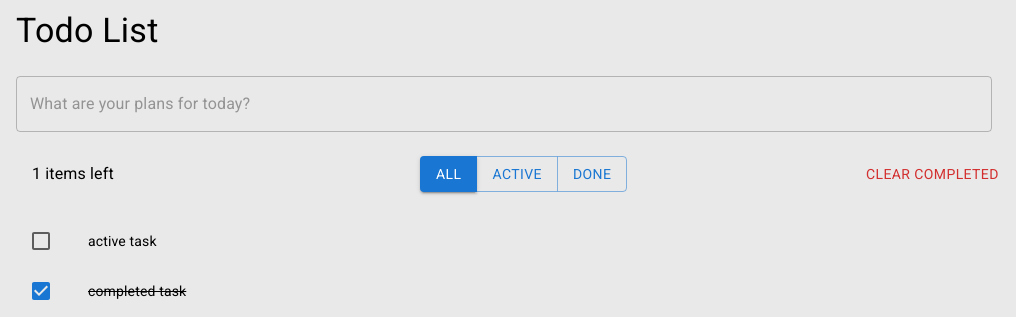
Test: TodoList › should remove completed tasks
What coordinates should you click on to do the following:
click the button "Clear completed"
I would click on:
 (932, 174)
Its box is [858,156,1007,192].
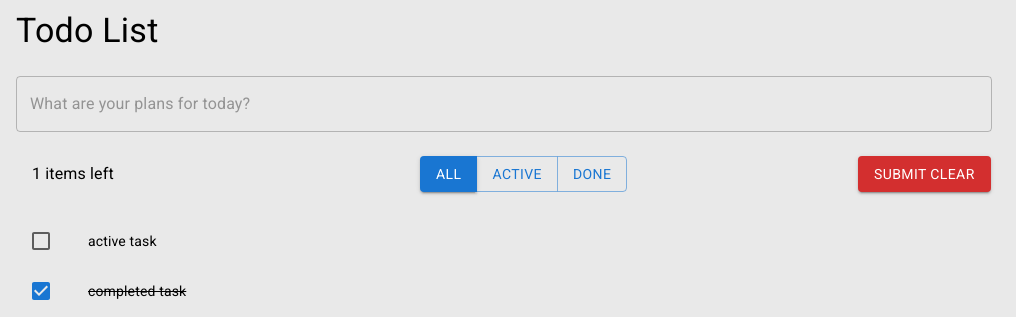
What coordinates should you click on to do the following:
click the button "Submit clear"
I would click on:
 (924, 174)
Its box is [858,156,991,192].
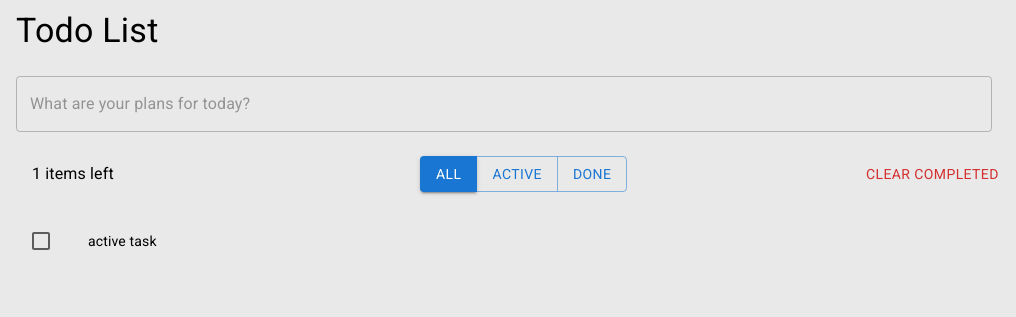
expect the text "completed task" is gone: met
